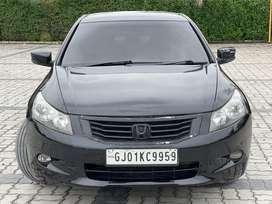GJ01KC9959: (104, 148, 176, 164)
